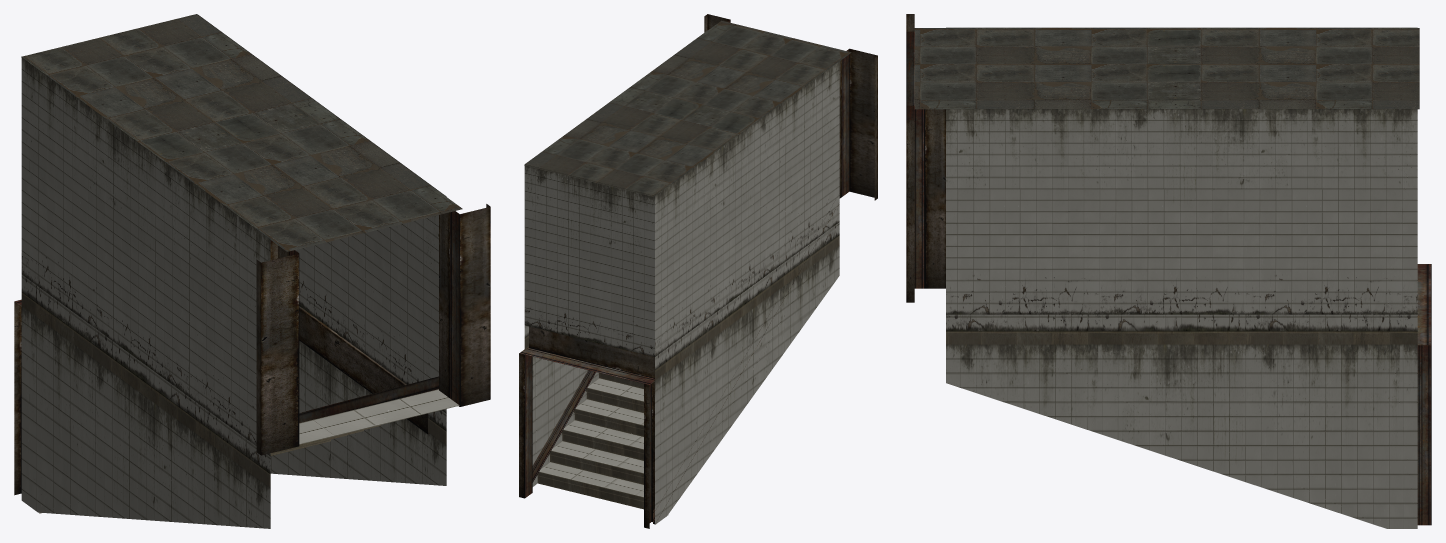
File: StairA.fbx
The picture shows the model from 3 angles, left to right: view 1: azimuth 30°, elevation 25°; view 2: azimuth 150°, elevation 25°; view 3: azimuth 270°, elevation 25°; orthographic projection. The views are drawn at different scales.
Visible parts, largest first — view 1: StairA; view 2: StairA; view 3: StairA.
Part boxes in pixels (left/top/right/bottom): StairA: left=14, top=14, right=490, bottom=528; StairA: left=519, top=14, right=877, bottom=528; StairA: left=906, top=14, right=1431, bottom=528.
Bounding box in the file's own units: 453 × 836 × 948.
